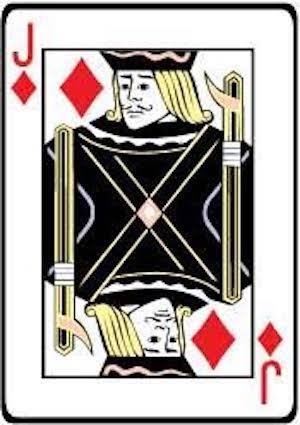JackOfDiamonds: (4, 3, 300, 415)
